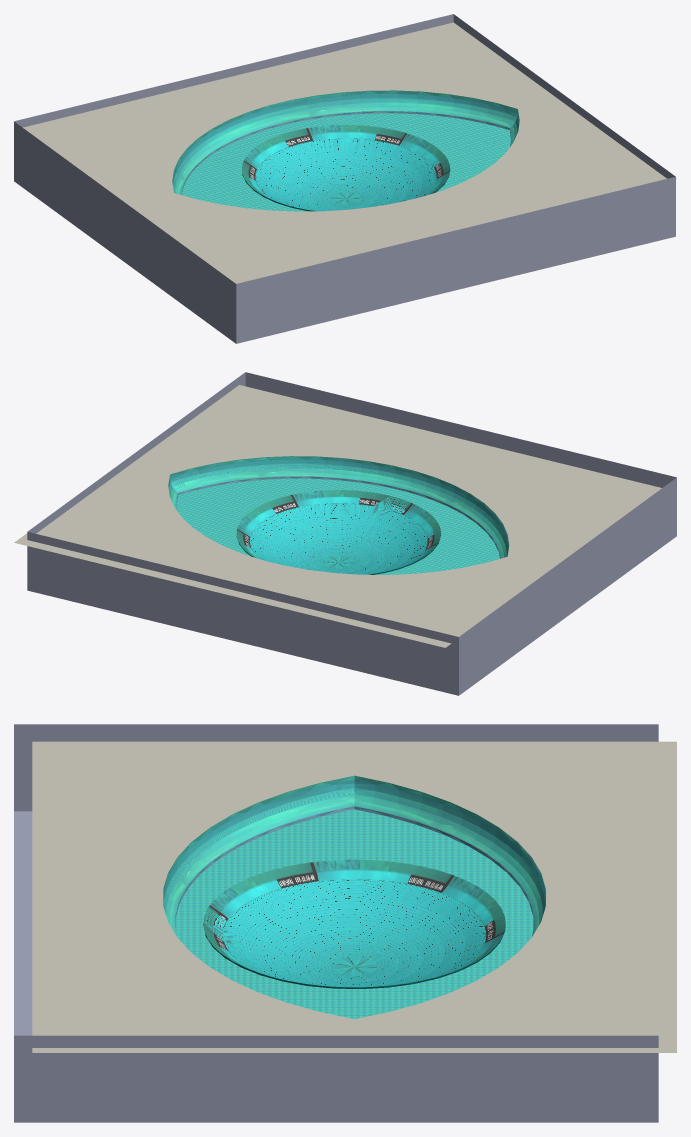
Rendered from transdec test.obj.
3 views of the same model, one above another, from view 1: azimuth 30°, elevation 25°; view 2: azimuth 150°, elevation 25°; view 3: azimuth 270°, elevation 25° (orthographic). The views are drawn at different scales.
Parts seen in each view (by area): view 1: mesh_2, mesh_3, mesh_1, mesh_5, mesh_4; view 2: mesh_2, mesh_3, mesh_1, mesh_5, mesh_4; view 3: mesh_2, mesh_3, mesh_1, mesh_5, mesh_4, mesh_6.
Boxes of the visible parts, x1,y1,x2,y2 form: mesh_2: (23,22,676,283); mesh_3: (14,14,675,343); mesh_1: (172,90,519,211); mesh_5: (242,125,450,211); mesh_4: (181,111,510,194); mesh_2: (14,385,661,647); mesh_3: (27,372,676,695); mesh_1: (168,456,509,574); mesh_5: (236,490,440,574); mesh_4: (177,476,500,558); mesh_2: (32,741,676,1052); mesh_3: (14,724,658,1122); mesh_1: (163,775,545,1018); mesh_5: (203,859,505,987); mesh_4: (175,806,533,928); mesh_6: (203,924,505,988).
Bounding box in the file's own units: 119 × 15.24 × 105.
6 materials, 3 textured.
